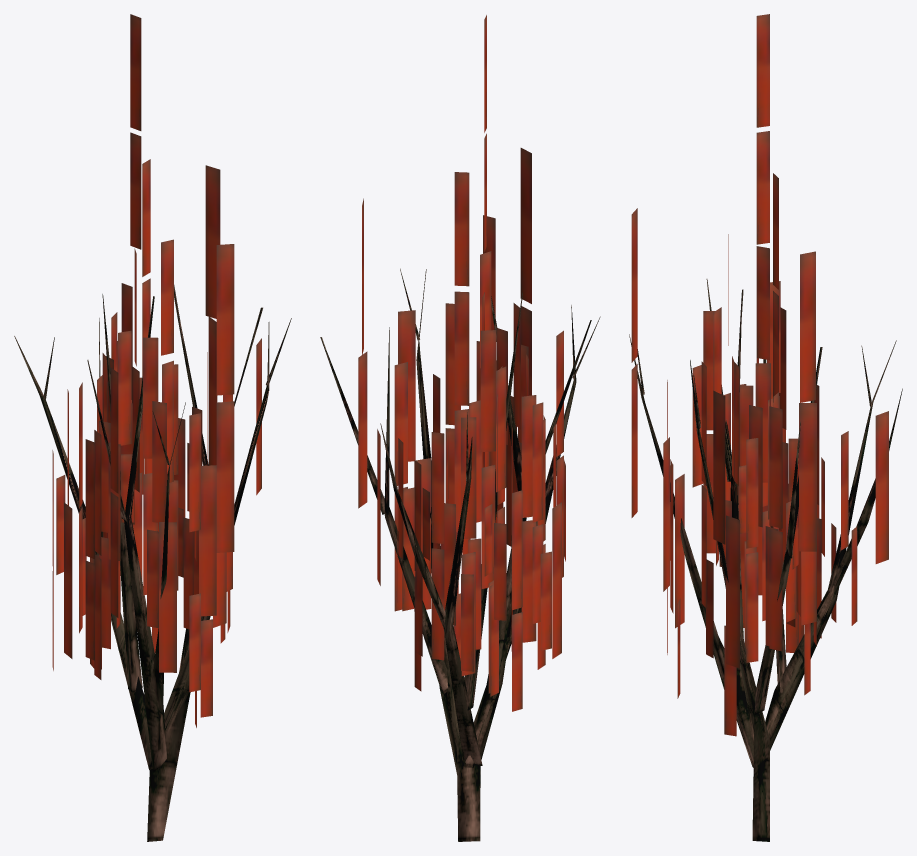
Rendered from RedTree_1.gltf.
3 views of the same model, side by side, from view 1: azimuth 30°, elevation 25°; view 2: azimuth 150°, elevation 25°; view 3: azimuth 270°, elevation 25° (orthographic).
Visible parts, largest first — view 1: RedTree_1; view 2: RedTree_1; view 3: RedTree_1.
Boxes of the visible parts, x1=… form: RedTree_1: x1=14, y1=14, x2=291, y2=841; RedTree_1: x1=320, y1=15, x2=600, y2=841; RedTree_1: x1=629, y1=14, x2=902, y2=841.
Size of the model in its own units: 2.03 by 7.18 by 2.18.
Materials: 90 (90 with a texture image).
